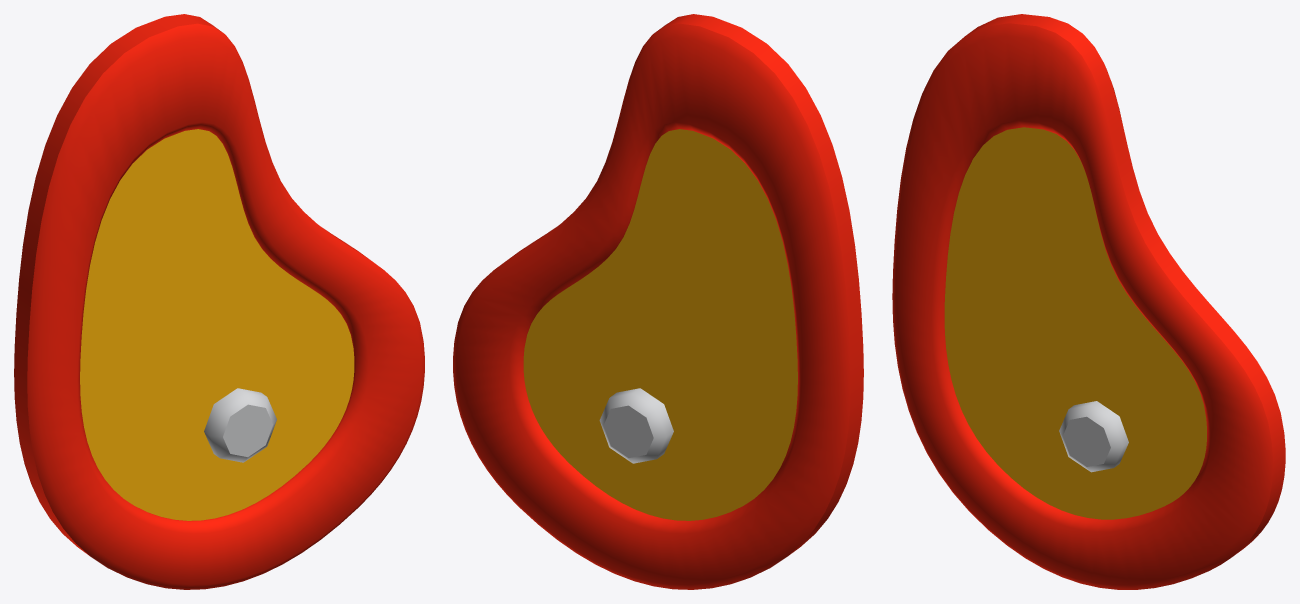
File: meat.glb
The picture shows the model from 3 angles, left to right: view 1: azimuth 30°, elevation 25°; view 2: azimuth 150°, elevation 25°; view 3: azimuth 330°, elevation 25°; orthographic projection. The views are drawn at different scales.
Parts seen in each view (by area): view 1: BézierCircle; view 2: BézierCircle; view 3: BézierCircle.
Part boxes in pixels (box(x1,y1,x2,y2)): BézierCircle: box(14, 14, 424, 589); BézierCircle: box(453, 14, 863, 589); BézierCircle: box(892, 14, 1285, 589).
Size of the model in its own units: 1.53 by 2.1 by 0.214.
Materials: 1 (1 with a texture image).
